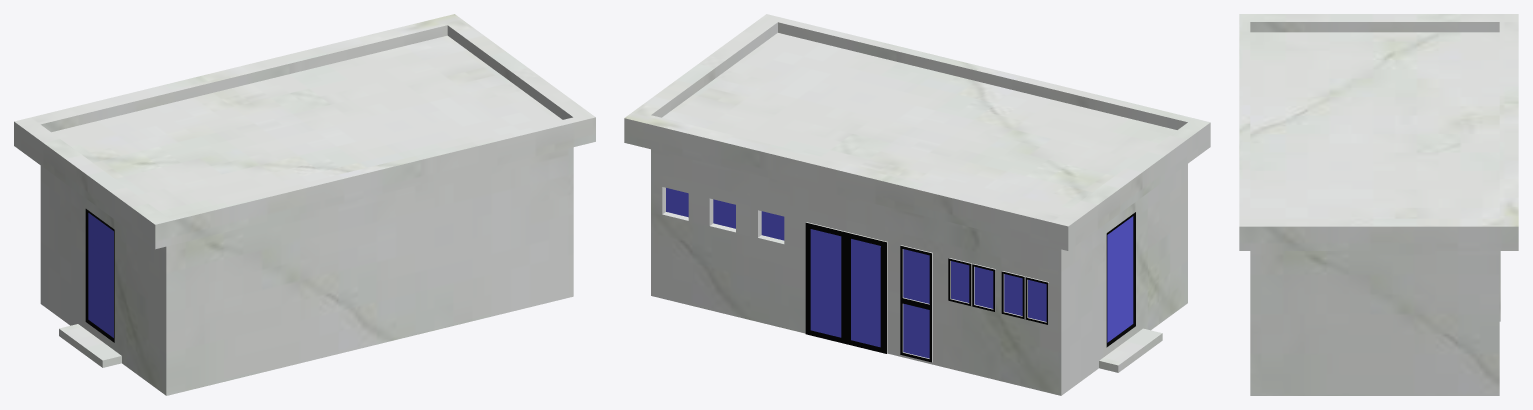
The model's file is Nhabaove.obj.
The picture shows the model from 3 angles, left to right: view 1: azimuth 30°, elevation 25°; view 2: azimuth 150°, elevation 25°; view 3: azimuth 270°, elevation 25°; orthographic projection.
Parts seen in each view (by area): view 1: Mesh1 Group1 Nh__c_nh_c_ng1 Model; view 2: Mesh1 Group1 Nh__c_nh_c_ng1 Model; view 3: Mesh1 Group1 Nh__c_nh_c_ng1 Model.
Part boxes in pixels (left/top/right/bottom): Mesh1 Group1 Nh__c_nh_c_ng1 Model: left=14, top=14, right=595, bottom=395; Mesh1 Group1 Nh__c_nh_c_ng1 Model: left=624, top=14, right=1210, bottom=395; Mesh1 Group1 Nh__c_nh_c_ng1 Model: left=1239, top=14, right=1518, bottom=395.
Size of the model in its own units: 8418 by 3256 by 4647.
Materials: 3 (1 with a texture image).
